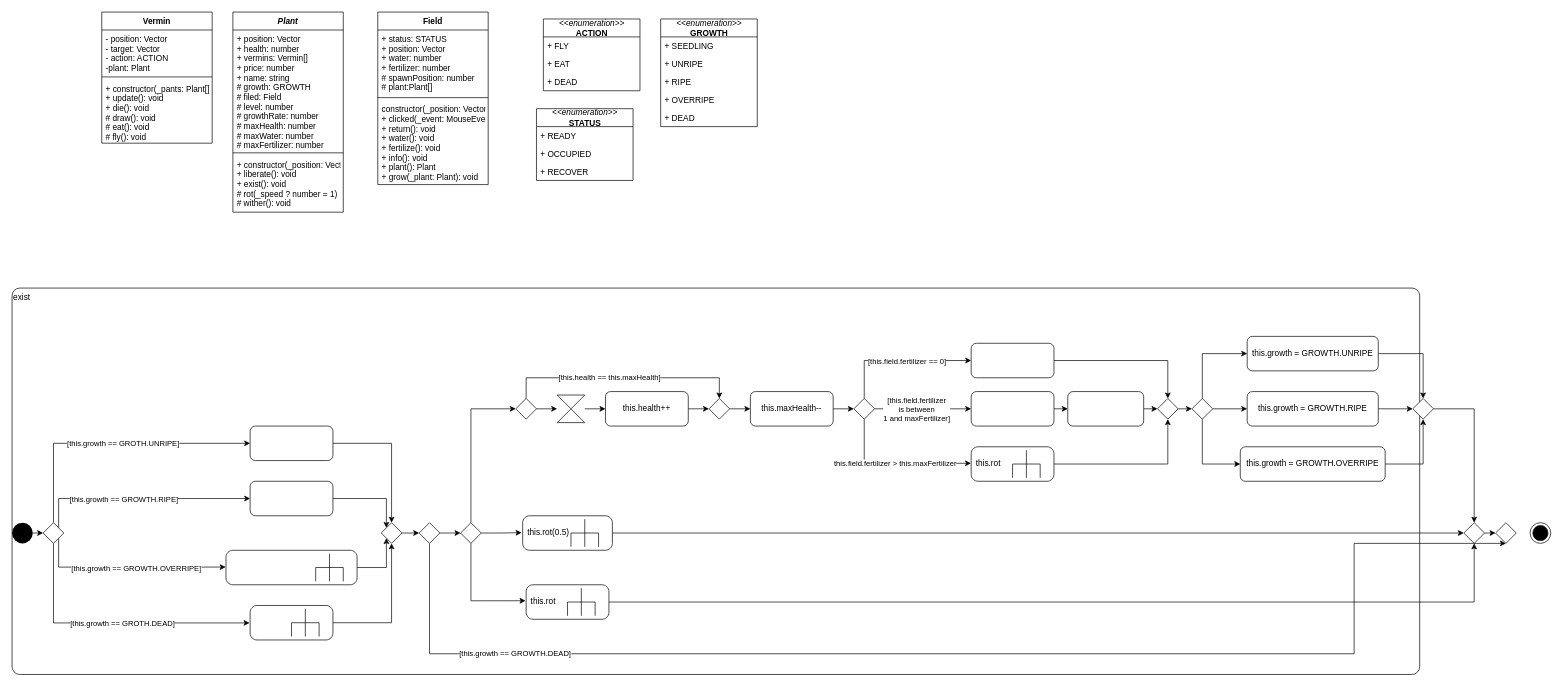
The diagram is 1563 pixels wide and 687 high, and some of its shapes have lost their labels. Each missing label, with the centre of its shape:
"this.die" belongs at (x=291, y=622).
"this.field.fertilizer--" belongs at (x=1105, y=408).
"this.level += 2" belongs at (x=1012, y=408).
"this.level++" belongs at (x=1012, y=360).
"this.maxHealth = 150" belongs at (x=291, y=443).
"this.maxHealth = 200" belongs at (x=291, y=498).
"this.rot(this.level - 100)" belongs at (x=291, y=567).
